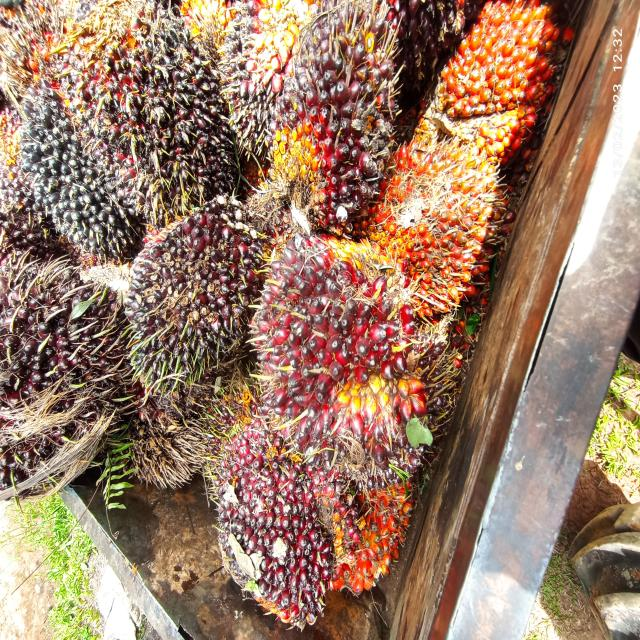fraksi 00: (234, 180, 440, 459), (99, 156, 272, 383), (0, 235, 137, 520), (5, 44, 138, 300), (85, 0, 235, 210)
fraksi 1: (241, 0, 393, 254), (201, 410, 347, 640)
fraksi 4: (358, 80, 526, 337), (446, 0, 564, 153), (323, 455, 412, 603)
